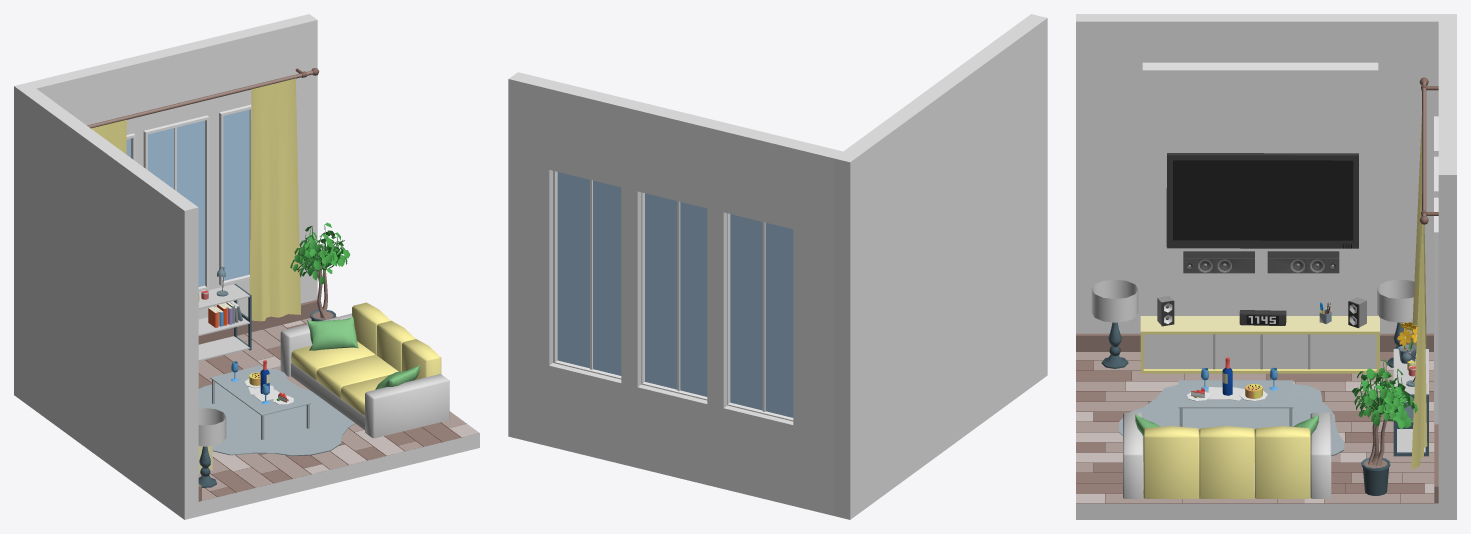
File: room_21.glb
The picture shows the model from 3 angles, left to right: view 1: azimuth 30°, elevation 25°; view 2: azimuth 150°, elevation 25°; view 3: azimuth 270°, elevation 25°; orthographic projection. The views are drawn at different scales.
Parts seen in each view (by area): view 1: Walls_006.034, sofa_030.002, Walls_006.037, window_001.004, Curtains_027.003, floor_018.003, carpet_002.002, Walls_006.035, Walls_056.005, flower_027.005, shelf_061.001, kitchen_table_007.004 (+8 smaller); view 2: Walls_006.034, window_001.004, Walls_006.037, Walls_006.036, Walls_006.035, Walls_006.033, Walls_006.039, Walls_006.038; view 3: Walls_006.034, Walls_003.044, floor_018.003, electronics_027.005, sofa_030.002, tv_wall_023.001, Walls_056.005, Walls_006.035, carpet_002.002, flower_027.005, kitchen_table_007.004, lamp_022.001 (+14 smaller).
Boxes of the visible parts, x1,y1,x2,y2 form: Walls_006.034: [14, 82, 198, 519]; sofa_030.002: [280, 302, 449, 438]; Walls_006.037: [63, 22, 282, 134]; window_001.004: [126, 104, 251, 291]; Curtains_027.003: [249, 78, 300, 321]; floor_018.003: [198, 318, 479, 500]; carpet_002.002: [198, 368, 355, 456]; Walls_006.035: [274, 14, 317, 303]; Walls_056.005: [198, 320, 479, 516]; flower_027.005: [290, 222, 350, 321]; shelf_061.001: [198, 284, 251, 361]; kitchen_table_007.004: [210, 365, 311, 439]; Walls_006.034: [834, 14, 1047, 519]; window_001.004: [553, 171, 793, 421]; Walls_006.037: [549, 82, 802, 229]; Walls_006.036: [549, 363, 793, 505]; Walls_006.035: [508, 72, 557, 446]; Walls_006.033: [793, 141, 842, 515]; Walls_006.039: [707, 208, 727, 407]; Walls_006.038: [621, 187, 641, 386]; Walls_006.034: [1076, 14, 1456, 333]; Walls_003.044: [1142, 62, 1378, 315]; floor_018.003: [1076, 352, 1438, 503]; electronics_027.005: [1166, 153, 1358, 248]; sofa_030.002: [1123, 412, 1331, 498]; tv_wall_023.001: [1140, 316, 1379, 373]; Walls_056.005: [1076, 360, 1438, 519]; Walls_006.035: [1438, 155, 1456, 519]; carpet_002.002: [1118, 384, 1344, 455]; flower_027.005: [1352, 359, 1417, 495]; kitchen_table_007.004: [1178, 380, 1293, 426]; lamp_022.001: [1091, 279, 1138, 368].
Size of the model in its own units: 4.25 by 4.2 by 4.2.
1 material, 1 textured.
